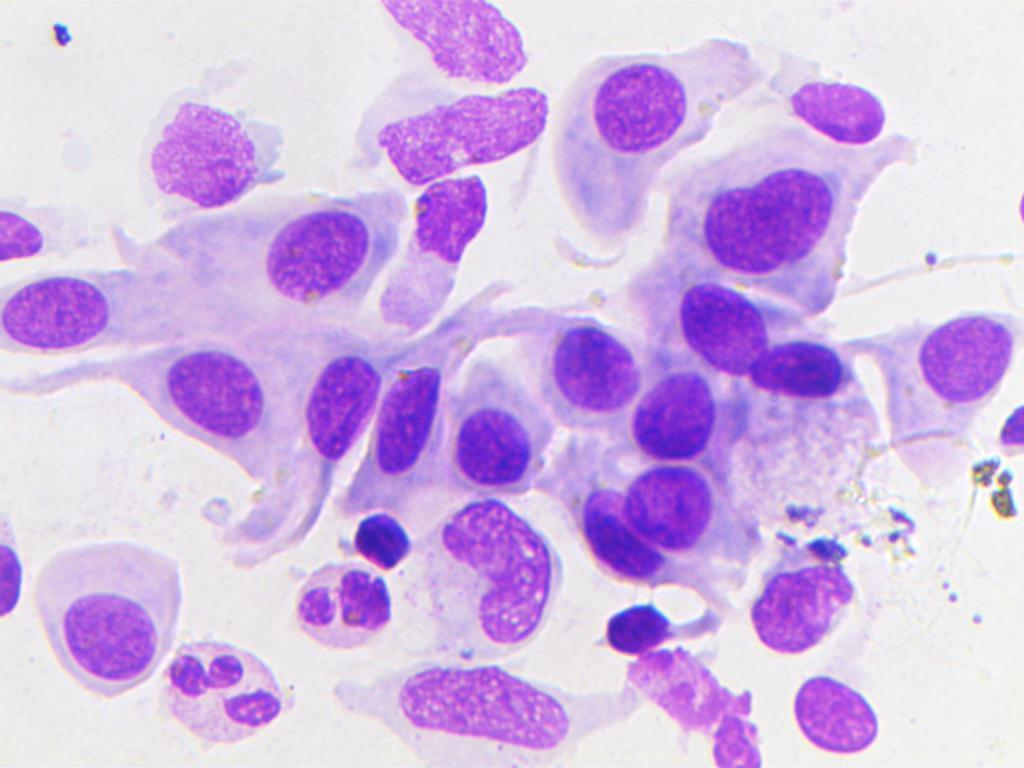artifact: (369, 84, 563, 183), (364, 0, 544, 87), (940, 457, 1018, 542)
ciliated: (362, 176, 510, 337)
epithelial: (319, 653, 642, 758), (555, 23, 769, 160), (26, 534, 183, 701), (140, 67, 279, 213), (242, 189, 401, 316), (437, 497, 562, 641), (0, 252, 150, 361), (876, 311, 1023, 416), (142, 340, 275, 455), (785, 27, 893, 144), (444, 386, 555, 499), (741, 545, 858, 652), (744, 163, 843, 280), (292, 339, 378, 473), (620, 456, 737, 553), (670, 273, 775, 380), (658, 181, 773, 275), (779, 668, 892, 755), (549, 316, 640, 412), (0, 198, 72, 270), (0, 510, 32, 636)
metaplastic: (726, 339, 860, 423), (366, 347, 442, 478), (568, 483, 666, 583), (631, 374, 719, 460), (591, 596, 681, 659), (343, 507, 413, 576)
neutrophil: (162, 643, 281, 739), (284, 558, 393, 647)
